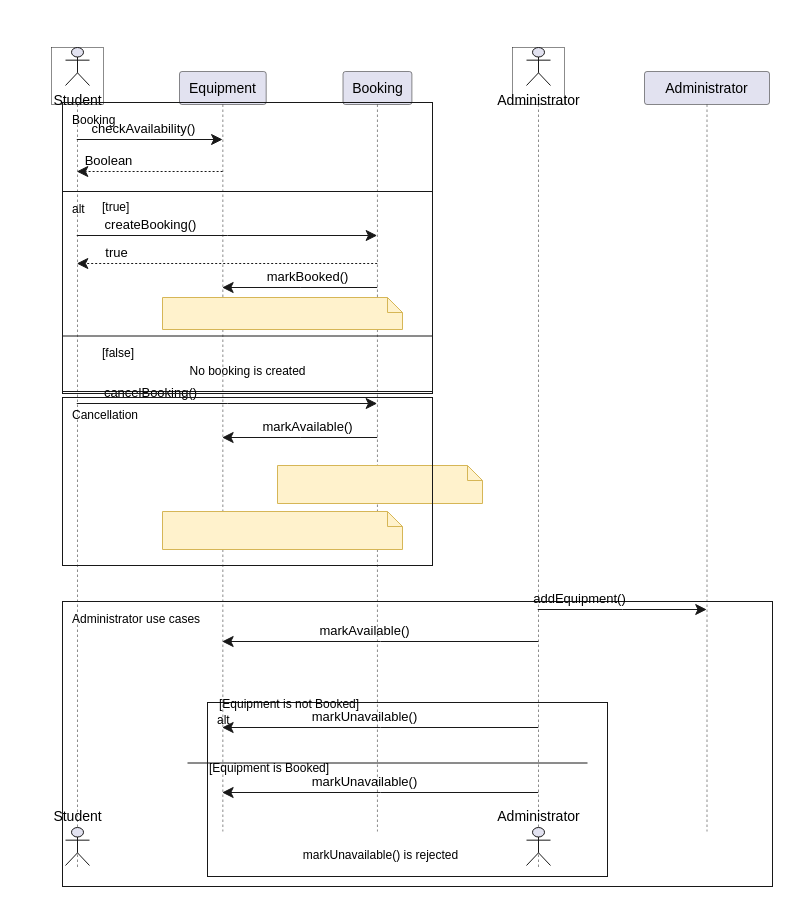
Image size: 790x904. Some labels were removed from this diagram. Each missing label, with the centre of its shape:
Booking retained; status Cancelled: the point at 379,484
Equipment status changes from Available to Booked: the point at 282,313
Equipment status: Booked to Available: the point at 282,530
